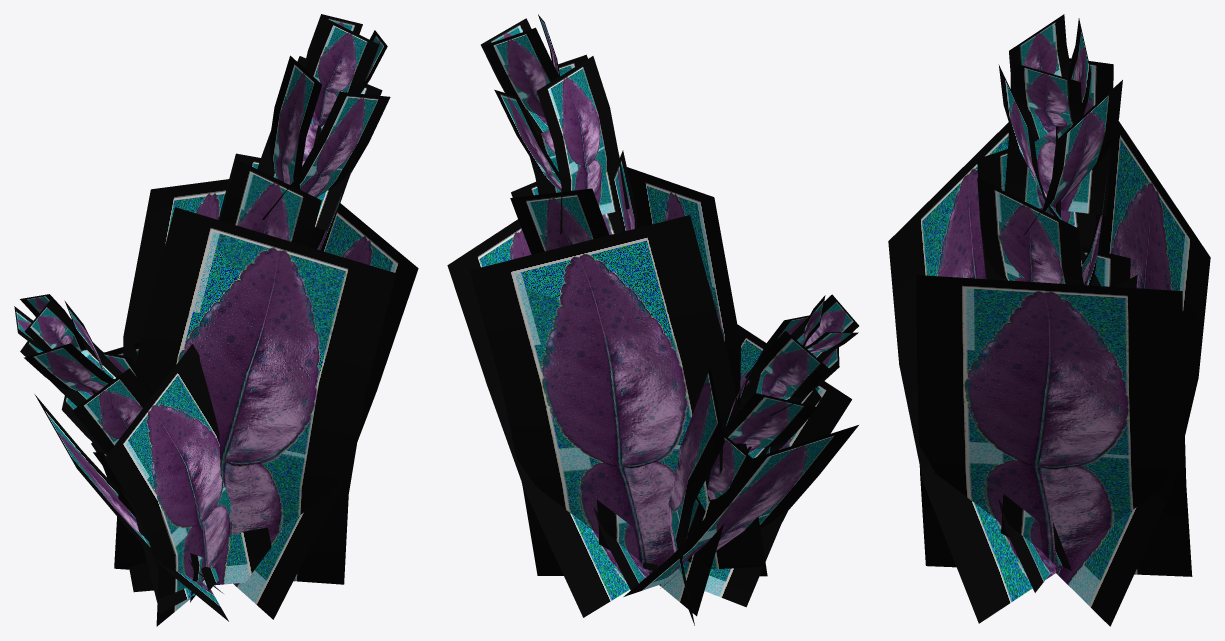
The model's file is violet2.FBX.
3 renders of one model, left to right at view 1: azimuth 30°, elevation 25°; view 2: azimuth 150°, elevation 25°; view 3: azimuth 270°, elevation 25°, orthographic. The views are drawn at different scales.
Visible parts, largest first — view 1: Plane108; view 2: Plane108; view 3: Plane108.
Boxes of the visible parts, x1,y1,x2,y2 form: Plane108: (14,14,418,626); Plane108: (447,14,858,625); Plane108: (888,14,1210,626).
Size of the model in its own units: 206 by 295 by 135.
